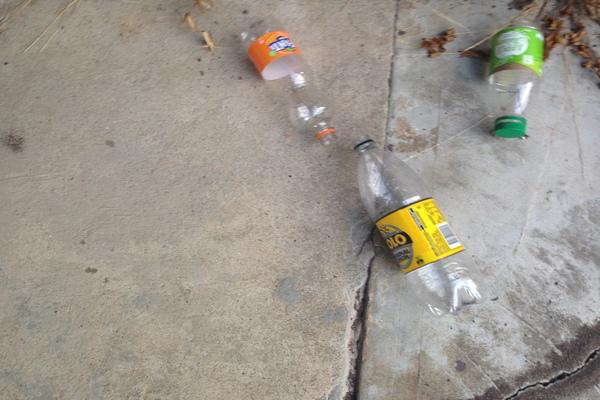Plastic Bottle: (352, 135, 484, 316), (241, 18, 341, 145), (490, 20, 543, 139)
